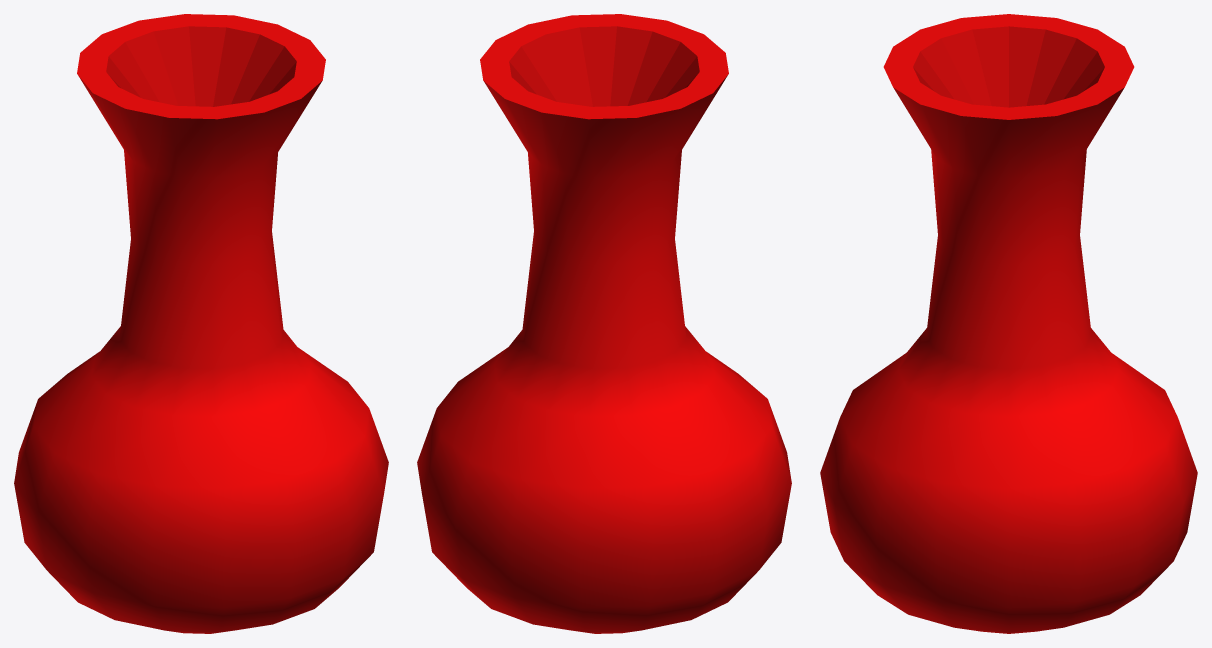
Rendered from Vase003.glb.
3 renders of one model, left to right at view 1: azimuth 30°, elevation 25°; view 2: azimuth 150°, elevation 25°; view 3: azimuth 270°, elevation 25°, orthographic.
Parts seen in each view (by area): view 1: Vase003; view 2: Vase003; view 3: Vase003.
Boxes of the visible parts, x1,y1,x2,y2 form: Vase003: [14, 14, 388, 633]; Vase003: [417, 14, 791, 633]; Vase003: [820, 14, 1197, 633].
Bounding box in the file's own units: 2.37 × 3.73 × 2.37.
